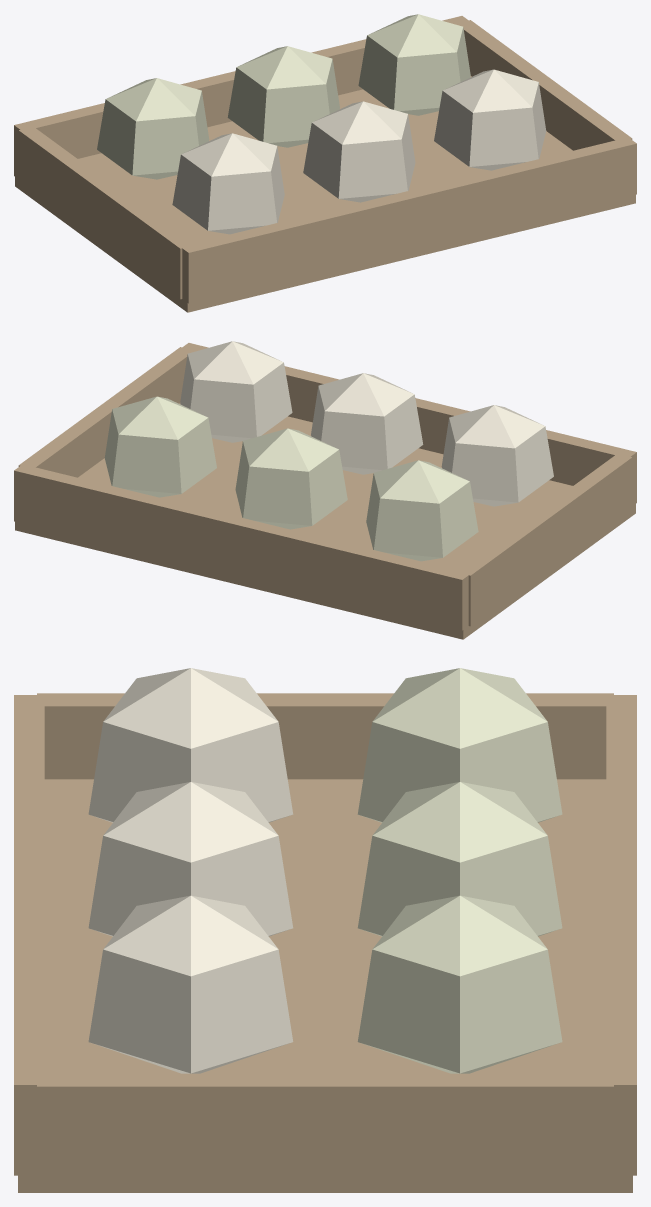
The model's file is prop-soap-ball-tray.fbx.
3 renders of one model, top to bottom at view 1: azimuth 30°, elevation 25°; view 2: azimuth 150°, elevation 25°; view 3: azimuth 270°, elevation 25°, orthographic. The views are drawn at different scales.
Visible parts, largest first — view 1: prop-soap-ball-tray; view 2: prop-soap-ball-tray; view 3: prop-soap-ball-tray.
Boxes of the visible parts, left/top/right/bottom form: prop-soap-ball-tray: left=14, top=14, right=636, bottom=312; prop-soap-ball-tray: left=14, top=341, right=636, bottom=639; prop-soap-ball-tray: left=14, top=668, right=636, bottom=1192.
Size of the model in its own units: 24.2 by 6.2 by 16.2.
